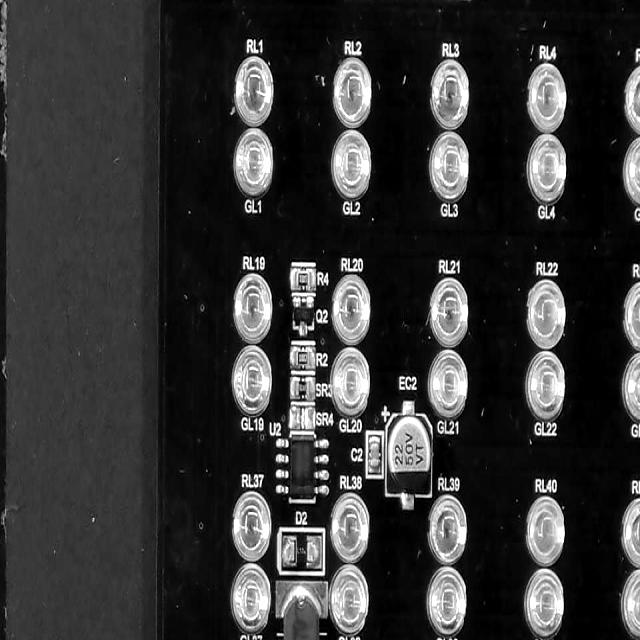Capacitor: (388, 414, 433, 495), (370, 444, 380, 468)
Diode: (290, 538, 314, 565)
IC: (289, 435, 316, 502)
Inductor: (283, 594, 320, 640)
Mosfet: (292, 296, 315, 333)
Register: (294, 408, 307, 427), (296, 351, 310, 367), (296, 272, 310, 286), (296, 382, 309, 395)
Soldering: (282, 536, 291, 566), (314, 538, 322, 566), (306, 408, 316, 429), (308, 376, 316, 400), (290, 268, 298, 291), (309, 267, 317, 290), (289, 407, 297, 429), (290, 346, 297, 369), (290, 379, 298, 398), (309, 346, 315, 370), (369, 436, 380, 446), (369, 464, 380, 474)
led: (526, 132, 569, 207), (327, 127, 373, 197), (232, 128, 276, 200), (230, 489, 272, 564), (524, 279, 567, 351), (234, 55, 276, 128), (526, 494, 566, 570), (330, 274, 372, 346), (427, 564, 468, 637), (429, 56, 470, 128), (428, 130, 470, 200), (332, 58, 374, 128), (525, 566, 565, 638), (330, 563, 370, 635), (330, 491, 370, 563), (232, 343, 272, 415), (429, 278, 469, 350), (527, 62, 567, 134), (524, 352, 566, 420), (428, 348, 468, 419), (230, 563, 271, 632), (429, 495, 468, 566), (235, 272, 272, 345), (331, 349, 370, 418), (620, 133, 640, 207), (620, 348, 640, 421), (619, 568, 640, 636), (621, 495, 640, 569), (622, 278, 640, 351), (623, 63, 640, 134)
